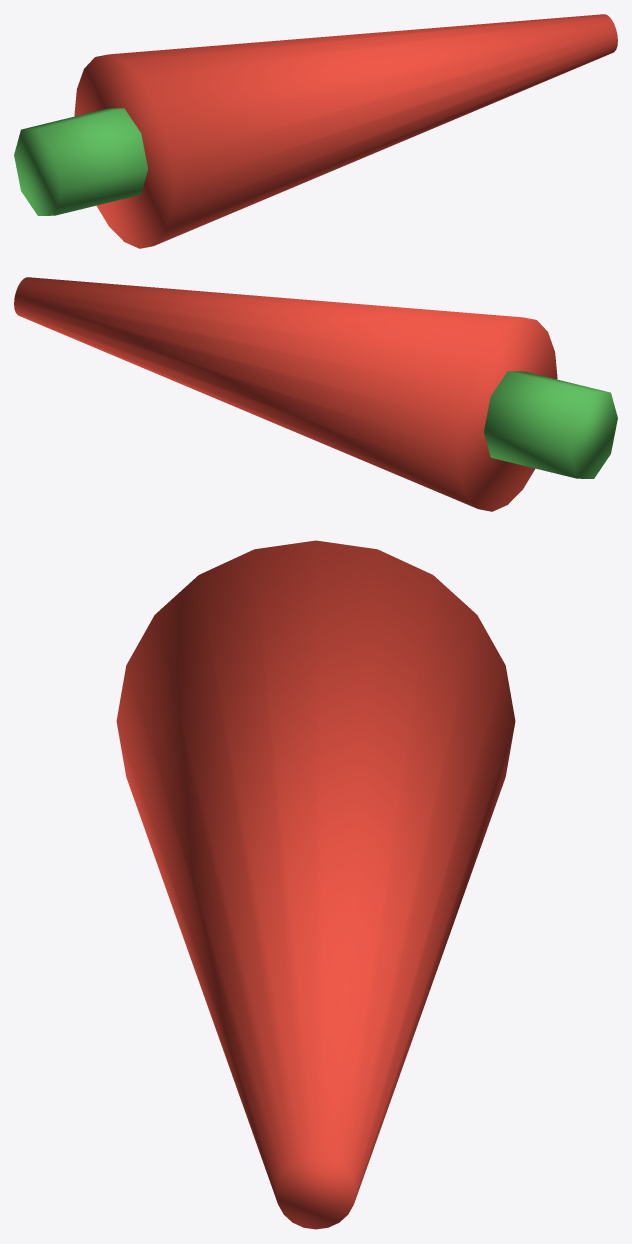
File: chili.fbx
The picture shows the model from 3 angles, top to bottom: view 1: azimuth 30°, elevation 25°; view 2: azimuth 150°, elevation 25°; view 3: azimuth 270°, elevation 25°; orthographic projection. The views are drawn at different scales.
Parts seen in each view (by area): view 1: chili; view 2: chili; view 3: chili.
Boxes of the visible parts, x1,y1,x2,y2 form: chili: (14,14,617,248); chili: (14,277,617,511); chili: (116,540,515,1229).
Size of the model in its own units: 0.165 by 0.05 by 0.05.
